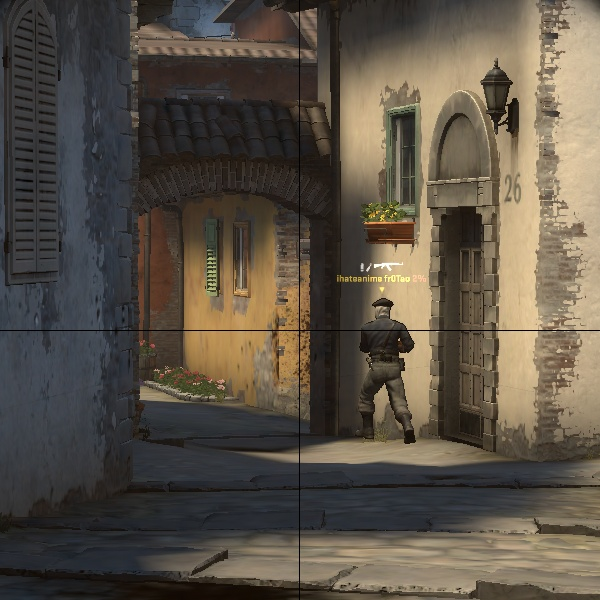t_body: (342, 295, 425, 444)
t_head: (365, 293, 400, 329)
